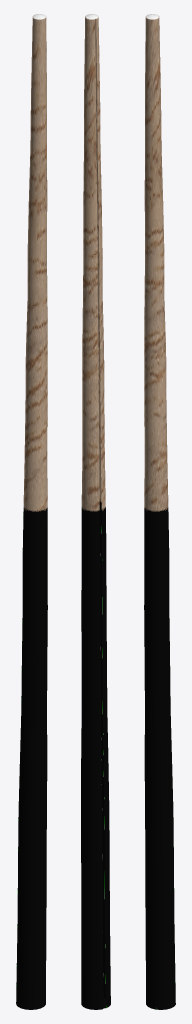
The model's file is cuestick.FBX.
The picture shows the model from 3 angles, left to right: view 1: azimuth 90°, elevation 25°; view 2: azimuth 210°, elevation 25°; view 3: azimuth 270°, elevation 25°; orthographic projection.
Parts seen in each view (by area): view 1: Cylinder001; view 2: Cylinder001; view 3: Cylinder001.
Boxes of the visible parts, x1,y1,x2,y2 form: Cylinder001: (16,14,47,1009); Cylinder001: (81,14,110,1009); Cylinder001: (144,14,175,1009).
Bounding box in the file's own units: 1.55 × 56.42 × 1.63.
1 material, 1 textured.
